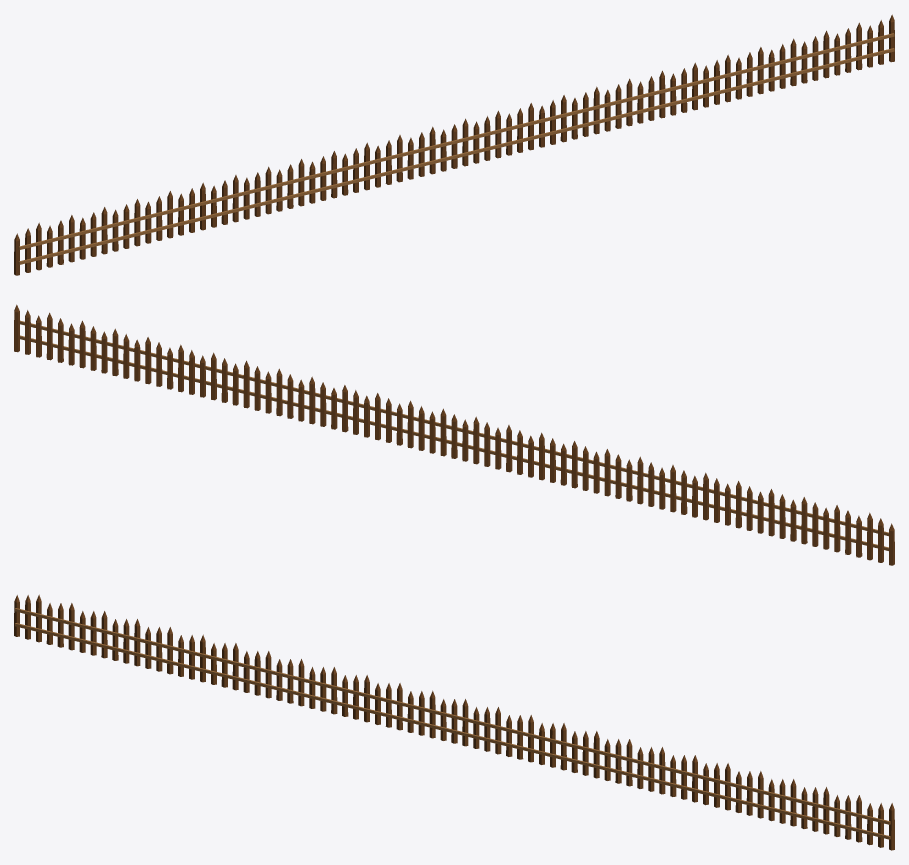
The model's file is fence.glb.
3 views of the same model, one above another, from view 1: azimuth 30°, elevation 25°; view 2: azimuth 150°, elevation 25°; view 3: azimuth 330°, elevation 25° (orthographic).
Visible parts, largest first — view 1: fence; view 2: fence; view 3: fence.
Boxes of the visible parts, box(x1,y1,x2,y2) form: fence: box(14, 14, 894, 275); fence: box(14, 304, 894, 565); fence: box(14, 594, 894, 850).
Bounding box in the file's own units: 40.24 × 2.04 × 0.3136.
